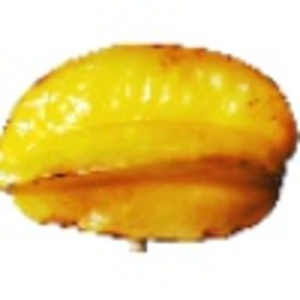carambola: (1, 40, 300, 257)
